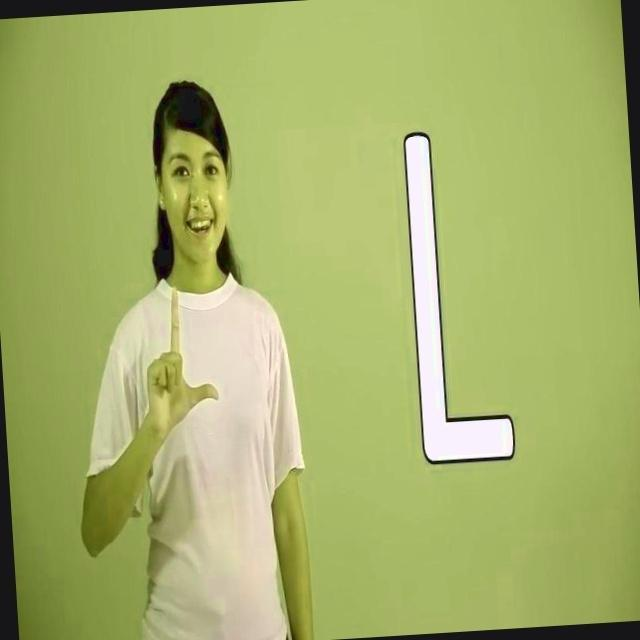L: (142, 282, 225, 422)
